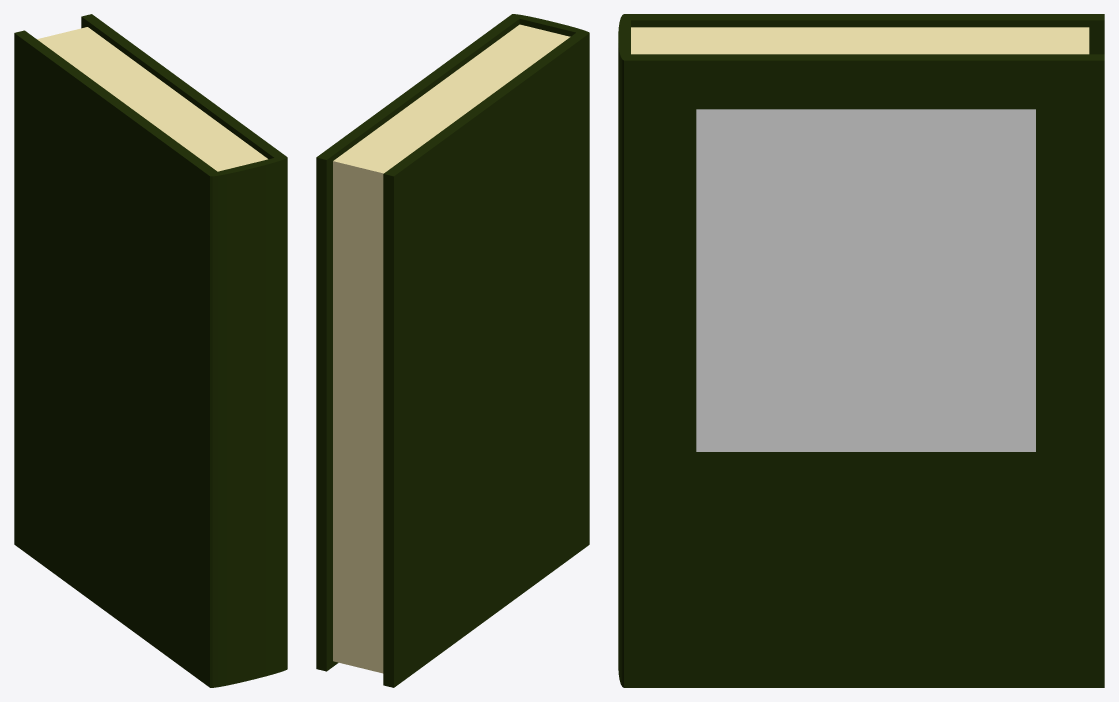
Rendered from Book2.fbx.
The picture shows the model from 3 angles, left to right: view 1: azimuth 30°, elevation 25°; view 2: azimuth 150°, elevation 25°; view 3: azimuth 270°, elevation 25°; orthographic projection. The views are drawn at different scales.
Visible parts, largest first — view 1: Cube.002, Cube.003, Cube, Cube.001; view 2: Cube.002, Cube, Cube.001, Cube.003; view 3: Cube.001, Plane, Cube, Cube.003, Cube.002.
Part boxes in pixels (<box>): Cube.002: <box>14,30,218,686</box>; Cube.003: <box>208,156,287,687</box>; Cube: <box>37,27,267,171</box>; Cube.001: <box>81,14,285,159</box>; Cube.002: <box>383,31,588,687</box>; Cube: <box>333,24,570,673</box>; Cube.001: <box>316,15,520,671</box>; Cube.003: <box>511,14,589,545</box>; Cube.001: <box>627,54,1104,687</box>; Plane: <box>696,109,1035,451</box>; Cube: <box>631,27,1089,54</box>; Cube.003: <box>618,14,630,687</box>; Cube.002: <box>627,14,1104,54</box>.
Bounding box in the file's own units: 7.2 × 45 × 31.61.
